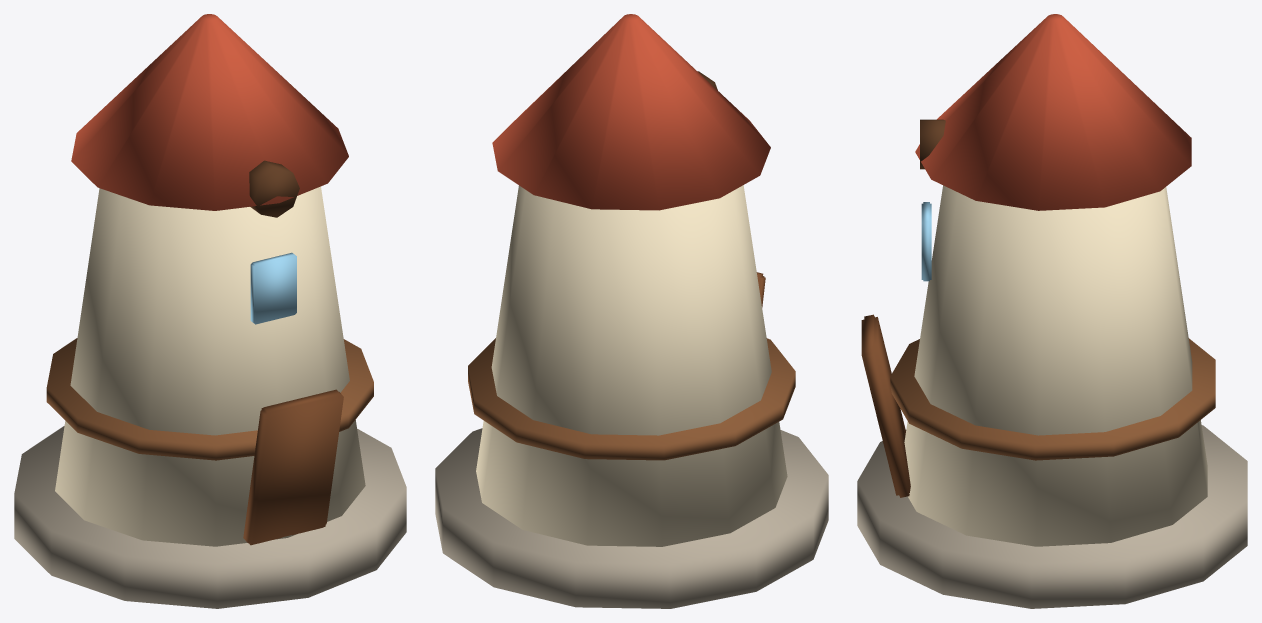
File: moinho.glb
The picture shows the model from 3 angles, left to right: view 1: azimuth 30°, elevation 25°; view 2: azimuth 150°, elevation 25°; view 3: azimuth 270°, elevation 25°; orthographic projection.
Visible parts, largest first — view 1: Moinho; view 2: Moinho; view 3: Moinho.
Boxes of the visible parts, x1,y1,x2,y2 form: Moinho: [14, 14, 406, 608]; Moinho: [435, 14, 828, 608]; Moinho: [857, 14, 1247, 608].
Bounding box in the file's own units: 2.38 × 3.4 × 2.37.
